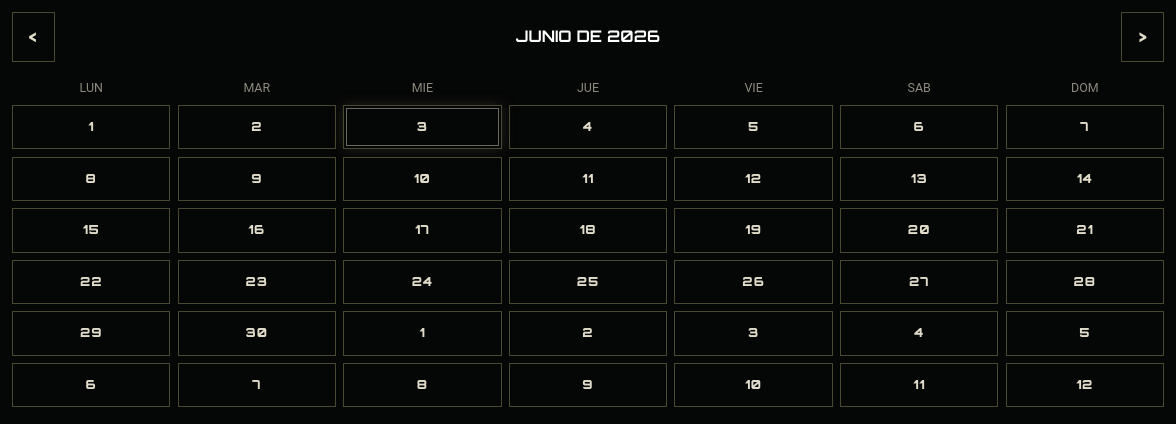
Test case: MiniCalendar › changes month with navigation buttons
What coordinates should you click on to do the following:
click the button named "Mes siguiente"
I would click on:
 (1143, 37)
Its box is [1121,12,1164,62].
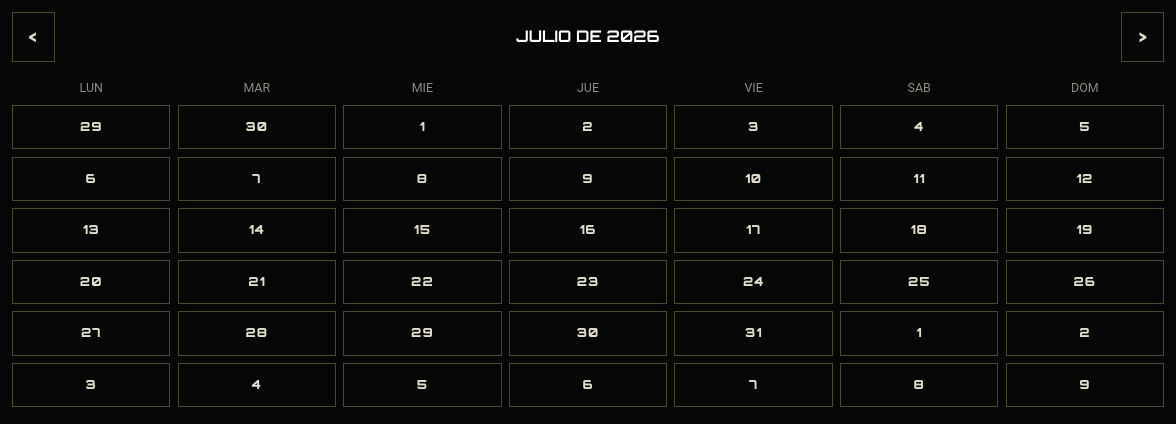
Expected: the text "julio de 2026" is shown, [516,24,660,50]
